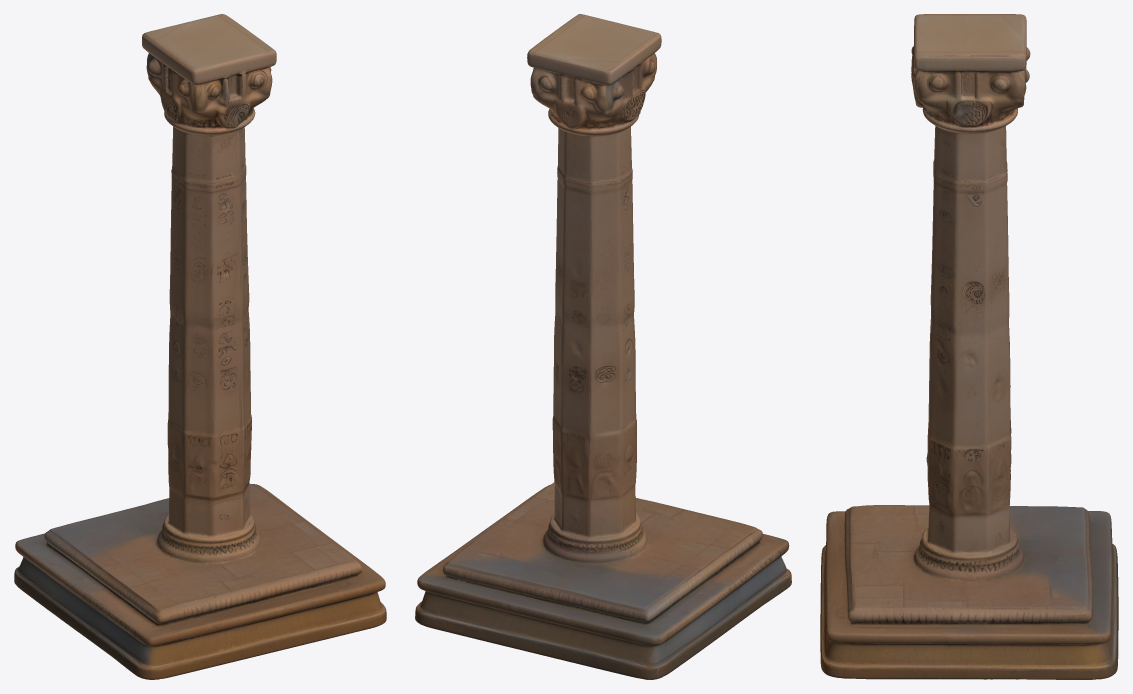
File: vaishali.glb
3 renders of one model, left to right at view 1: azimuth 30°, elevation 25°; view 2: azimuth 150°, elevation 25°; view 3: azimuth 270°, elevation 25°, orthographic. The views are drawn at different scales.
Parts seen in each view (by area): view 1: tripo_node_92b0b3cb-5442-4502-9413-6acd3c83507e; view 2: tripo_node_92b0b3cb-5442-4502-9413-6acd3c83507e; view 3: tripo_node_92b0b3cb-5442-4502-9413-6acd3c83507e.
Boxes of the visible parts, x1=… form: tripo_node_92b0b3cb-5442-4502-9413-6acd3c83507e: x1=14, y1=14, x2=386, y2=679; tripo_node_92b0b3cb-5442-4502-9413-6acd3c83507e: x1=415, y1=14, x2=791, y2=679; tripo_node_92b0b3cb-5442-4502-9413-6acd3c83507e: x1=820, y1=14, x2=1118, y2=679.
Size of the model in its own units: 0.472 by 1 by 0.4612.
Materials: 1 (1 with a texture image).
